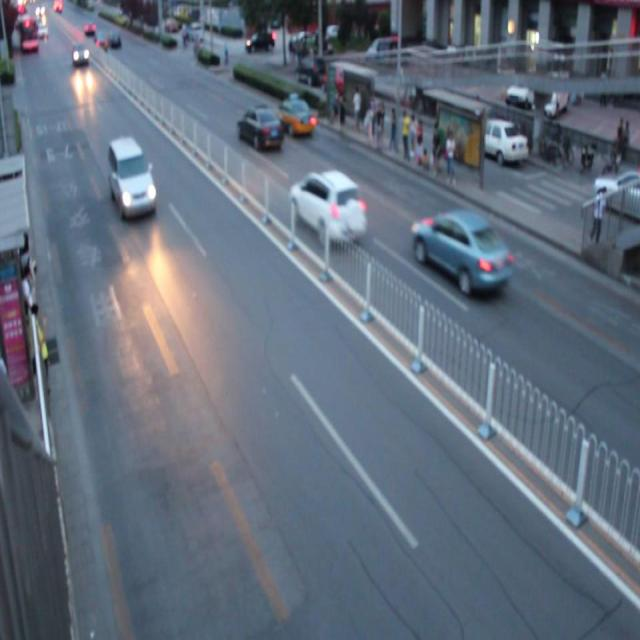car: (409, 207, 514, 296), (288, 167, 366, 250), (236, 104, 281, 154), (271, 97, 315, 141)
truck: (107, 135, 158, 222)
